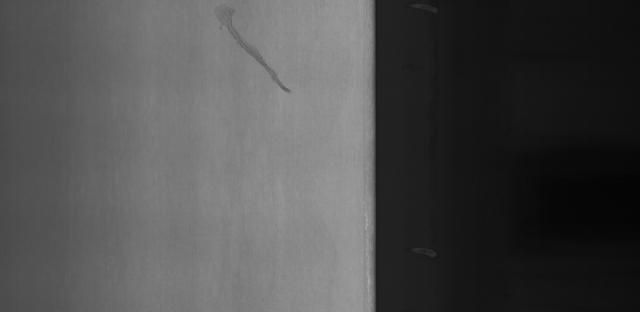water_spot: (203, 4, 295, 103)
